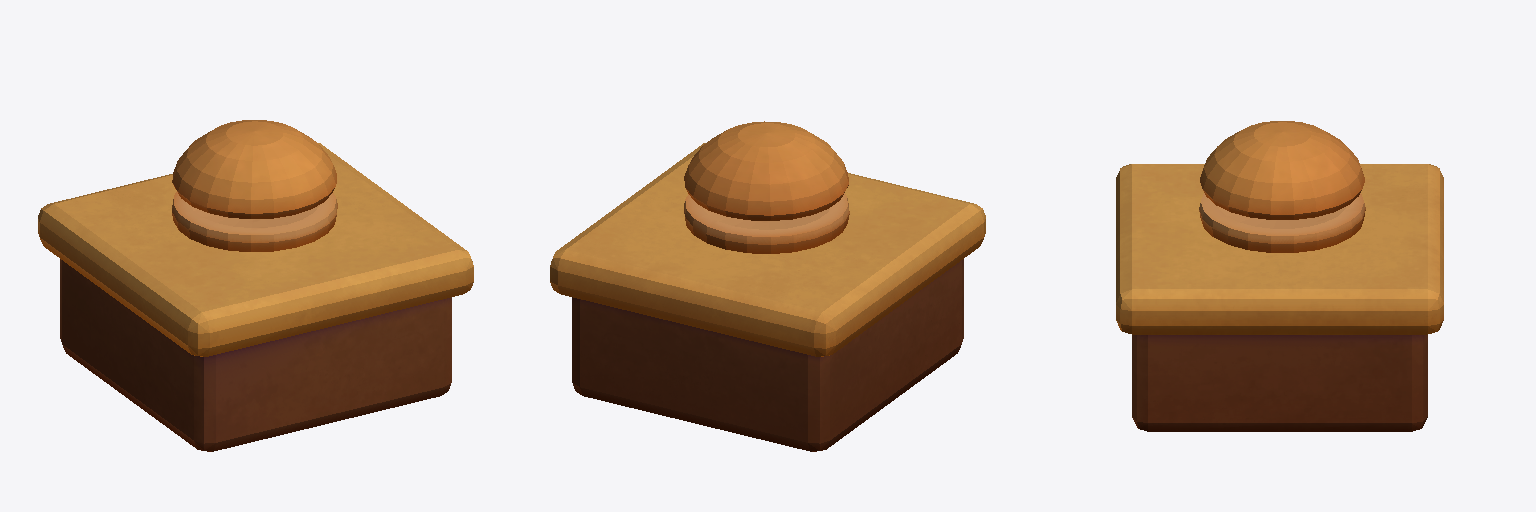
3 renders of one model, left to right at view 1: azimuth 30°, elevation 25°; view 2: azimuth 150°, elevation 25°; view 3: azimuth 270°, elevation 25°, orthographic.
Parts seen in each view (by area): view 1: ClearCounter.Base.005, Bread.Top, Bread.Bottom; view 2: ClearCounter.Base.005, Bread.Top, Bread.Bottom; view 3: ClearCounter.Base.005, Bread.Top, Bread.Bottom.
Boxes of the visible parts, <box> form: ClearCounter.Base.005: <box>38,143,473,451</box>; Bread.Top: <box>172,120,336,218</box>; Bread.Bottom: <box>172,192,337,251</box>; ClearCounter.Base.005: <box>550,143,985,451</box>; Bread.Top: <box>684,121,848,220</box>; Bread.Bottom: <box>684,193,849,253</box>; ClearCounter.Base.005: <box>1116,164,1443,431</box>; Bread.Top: <box>1200,121,1364,219</box>; Bread.Bottom: <box>1199,193,1365,252</box>.
Size of the model in its own units: 1.33 by 1.11 by 1.33.
2 materials, 2 textured.